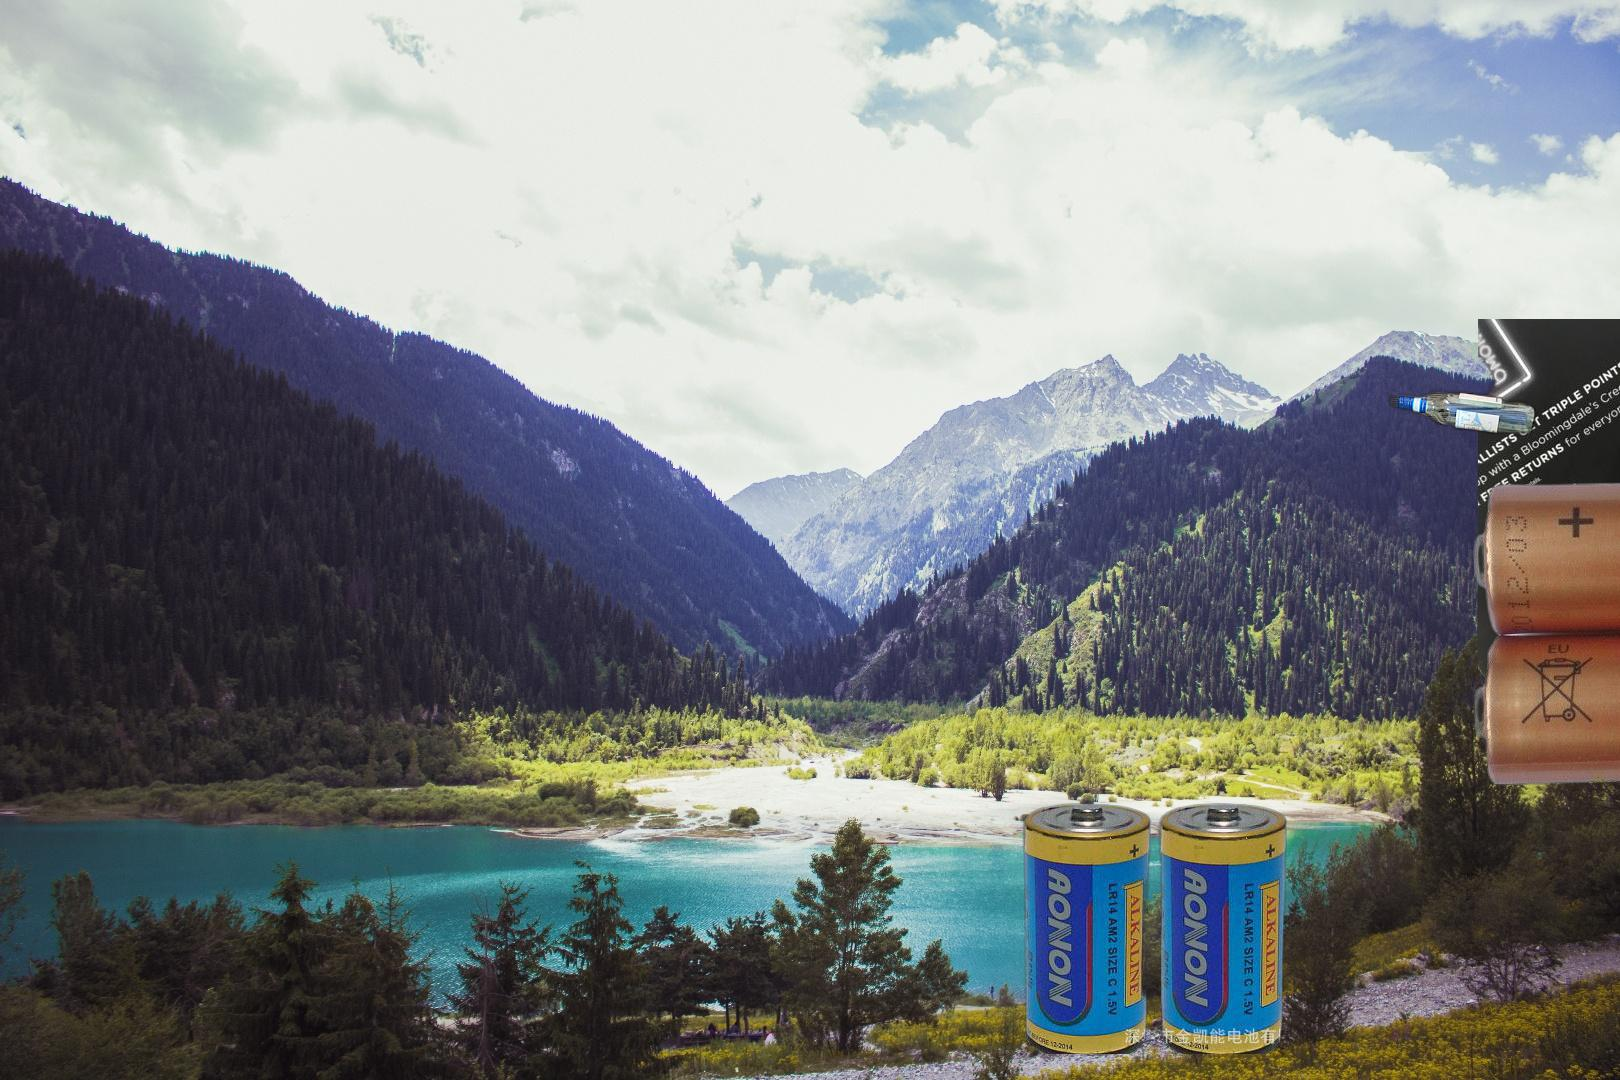battery: (1020, 800, 1290, 1053), (1468, 472, 1620, 790)
glass: (1385, 385, 1539, 442)
paper: (1478, 319, 1620, 703)
trashbox-cardboard: (1571, 538, 1620, 886)
